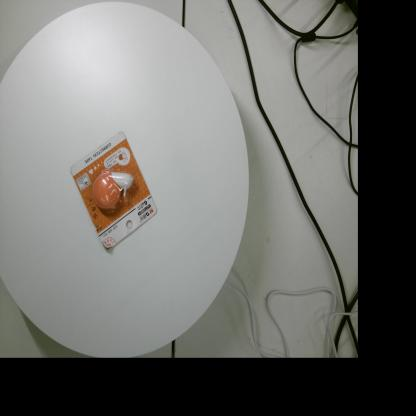Stationery: (70, 132, 158, 252)
